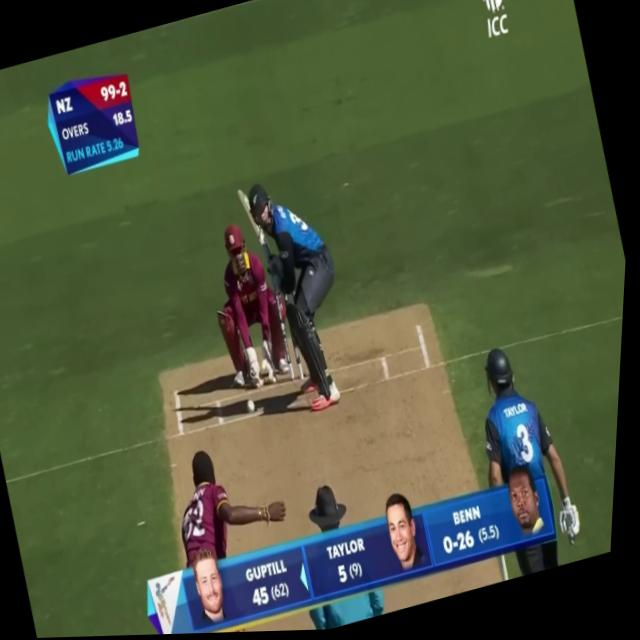Batsman: (229, 154, 379, 427)
